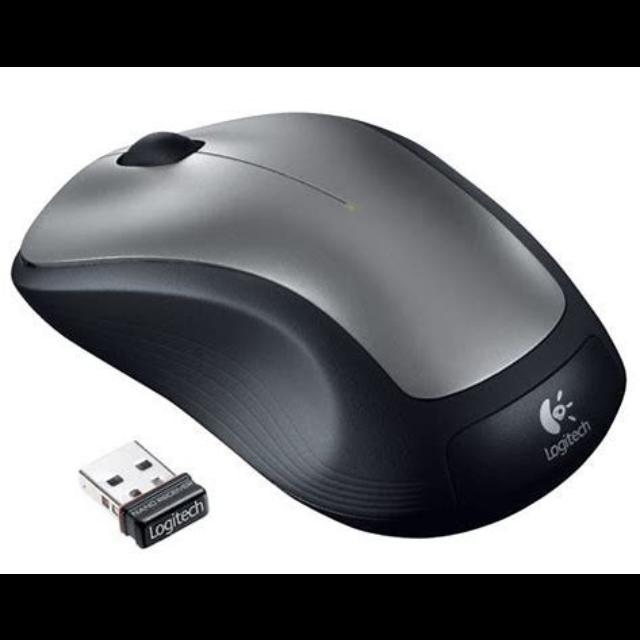Computer-Mouse: (11, 111, 628, 540)
